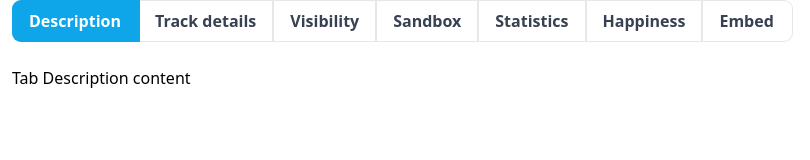
TabbedContent › should render new Tabbed Content after tabs-navigation button clicked
Check: the text "Tab Description content" is shown, box [12, 67, 191, 89]
Check: the text "Tab Track details content" is not shown
Click the text "Track details" at {"x": 207, "y": 21}, box [139, 1, 274, 41]
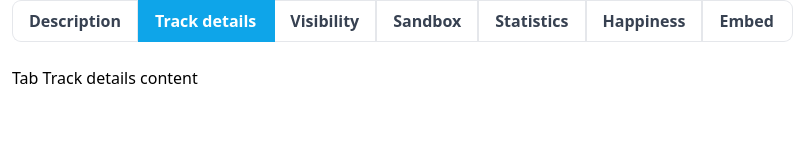
Check: the text "Tab Description content" is gone
Check: the text "Tab Track details content" is shown, box [12, 67, 198, 89]
